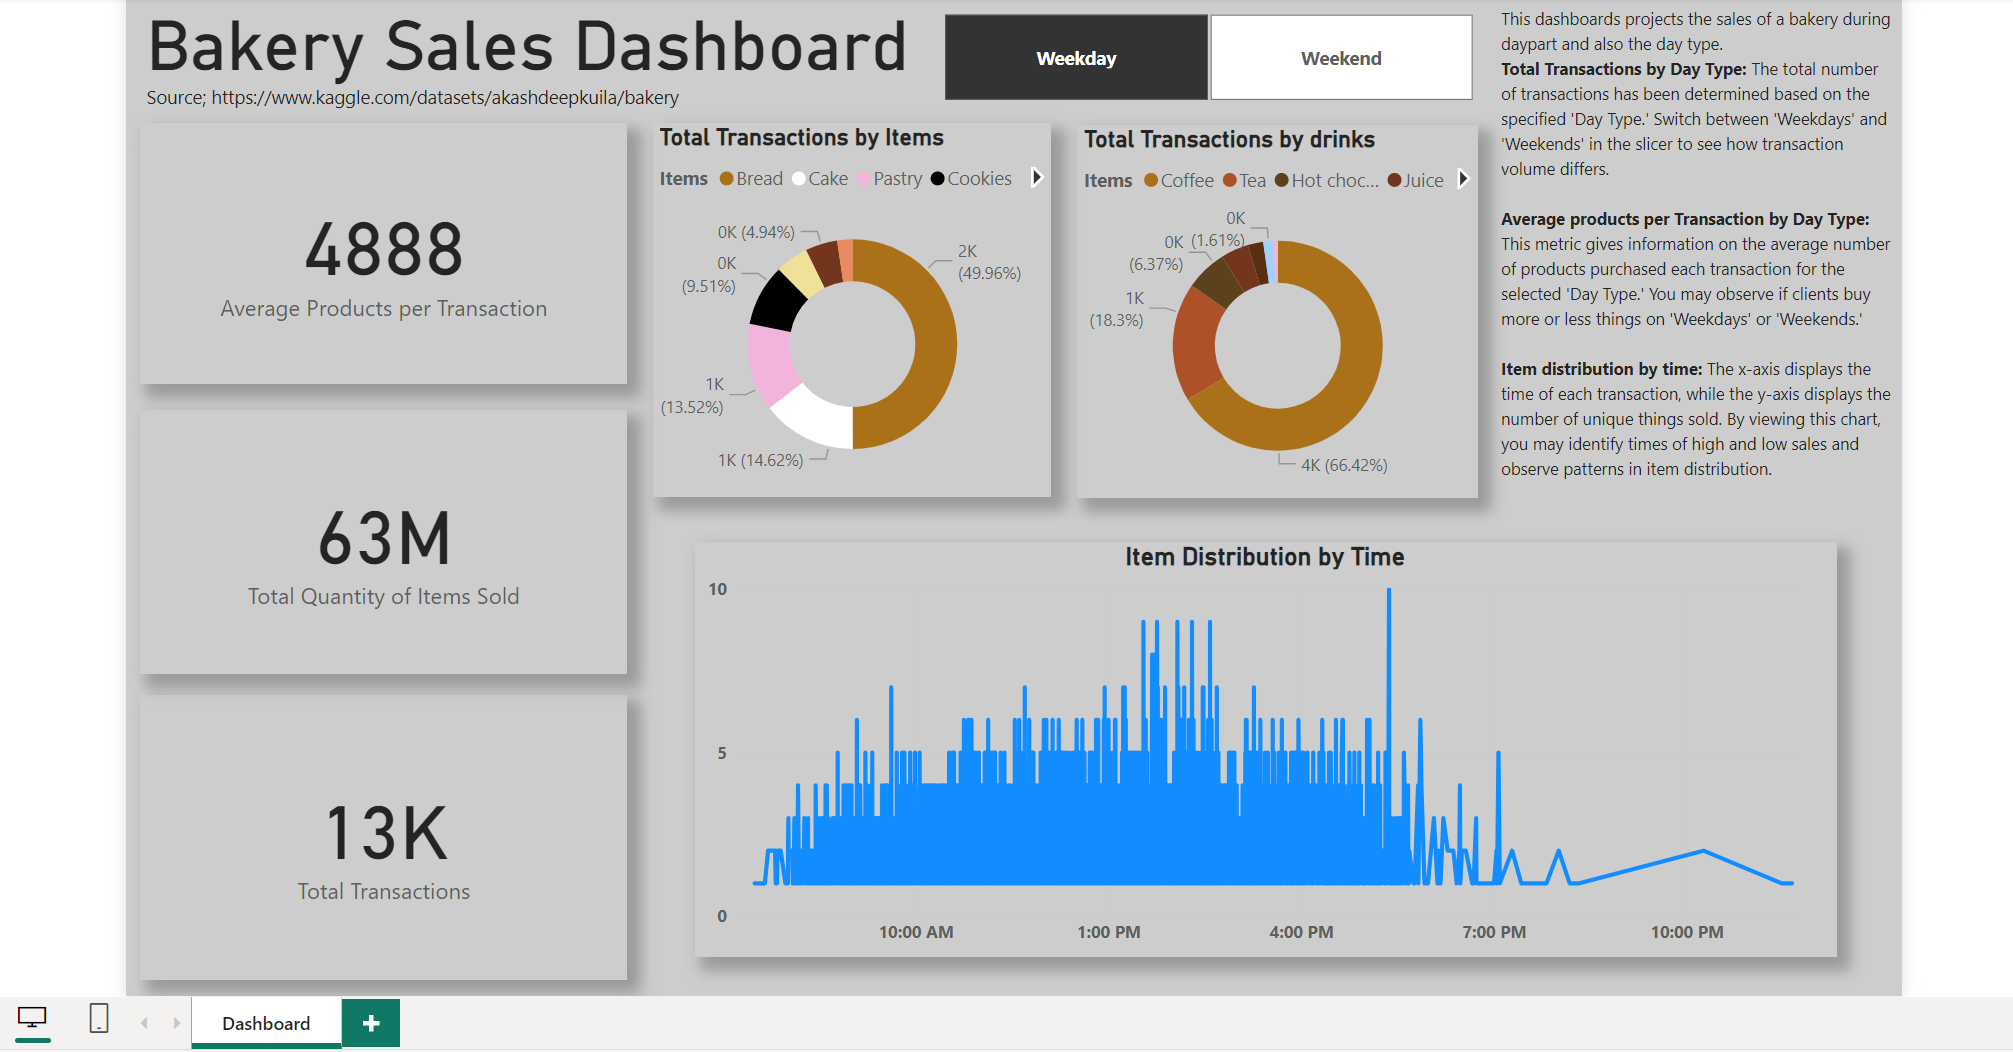

The page's visual inventory and layout, read from the dashboard file:
{"tool":"powerbi","page":{"name":"Dashboard","canvas":[1280,720],"ordinal":0},"visuals":[{"type":"textbox","box":[9.7,0,569.4,90.8],"z":0},{"type":"slicer","fields":{"Values":["Bakery.DayType"]},"box":[564,5.4,430.1,75.6],"z":1000},{"type":"card","fields":{"Values":["Bakery.Total Transactions"]},"box":[10,502.2,351.6,205.2],"z":2000},{"type":"card","fields":{"Values":["Bakery.Total Quantity of Items Sold by DayType"]},"box":[10,297,351.6,190.9],"z":3000},{"type":"lineChart","title":"Item Distribution by Time","fields":{"Category":["Bakery.Time"],"Y":["Bakery.Item Distribution by DayType"]},"box":[409.4,392.5,822.3,299.5],"z":4000},{"type":"card","fields":{"Values":["Bakery.Average Items per Transaction by DayType"]},"box":[10,90.4,351.6,188],"z":5000},{"type":"donutChart","title":"Total Transactions by Items","fields":{"Category":["Bakery.Items"],"Y":["Bakery.Total Transactions"],"Series":["Bakery.DayType"]},"box":[379.2,90.6,287.4,269.3],"z":6000},{"type":"donutChart","title":"Total Transactions by drinks","fields":{"Category":["Bakery.Items"],"Y":["Bakery.Total Transactions"],"Series":["Bakery.DayType"]},"box":[684.7,91.8,288.6,269.3],"z":7000},{"type":"textbox","box":[985.4,0,294.6,382.8],"z":8000}]}

Visuals, with their boxes on the page's 1280x720 design canvas (x1, y1, x2, y2). These are canvas units, not pixel positions in the 2013x1052 screenshot, which may show the page scaled, cropped or inside an application window:
textbox: 10:0:579:91
slicer - Bakery.DayType: 564:5:994:81
card - Bakery.Total Transactions: 10:502:362:707
card - Bakery.Total Quantity of Items Sold by DayType: 10:297:362:488
"Item Distribution by Time" lineChart: 409:392:1232:692
card - Bakery.Average Items per Transaction by DayType: 10:90:362:278
"Total Transactions by Items" donutChart: 379:91:667:360
"Total Transactions by drinks" donutChart: 685:92:973:361
textbox: 985:0:1280:383
